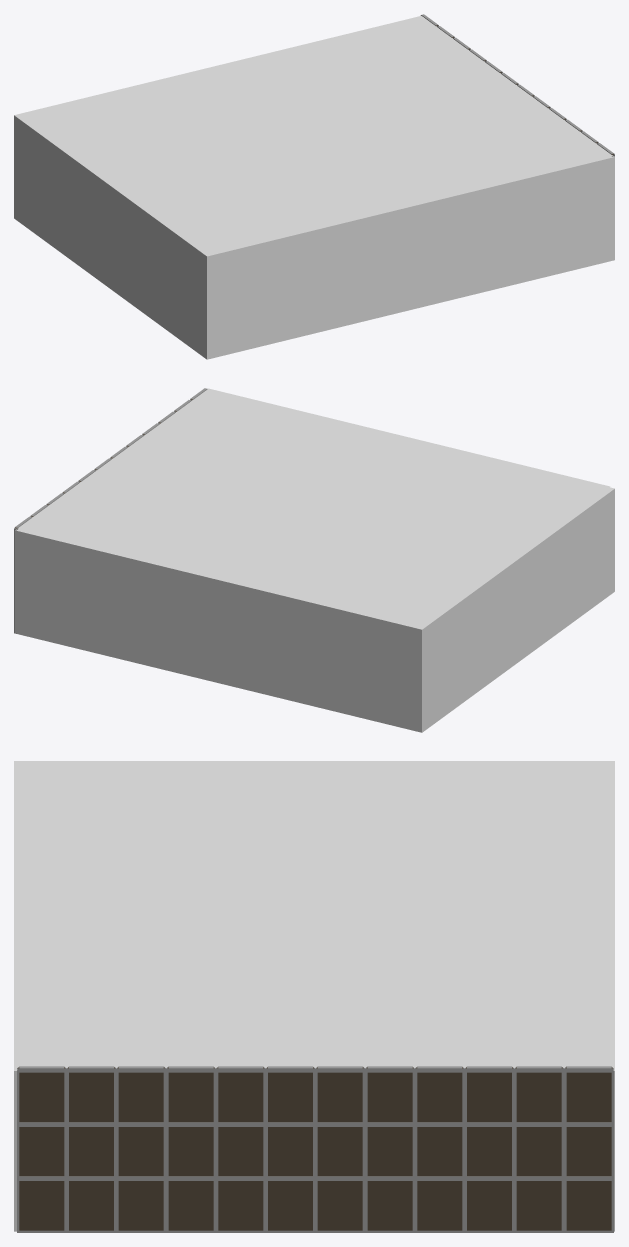
Rendered from cabinet.fbx.
The picture shows the model from 3 angles, top to bottom: view 1: azimuth 30°, elevation 25°; view 2: azimuth 150°, elevation 25°; view 3: azimuth 270°, elevation 25°; orthographic projection. The views are drawn at different scales.
Parts seen in each view (by area): view 1: roof, Wall001, Plane001; view 2: roof, Wall001, Plane001; view 3: roof, Object001, Plane001, Wall001.
Part boxes in pixels (x1,y1,x2,y2): roof: (20, 16, 612, 253); Wall001: (14, 27, 614, 359); Plane001: (420, 14, 614, 156); roof: (18, 388, 610, 625); Wall001: (14, 487, 614, 732); Plane001: (14, 388, 207, 633); roof: (15, 762, 610, 1067); Object001: (18, 1067, 612, 1230); Plane001: (17, 1066, 613, 1232); Wall001: (14, 761, 614, 1231).
Size of the model in its own units: 22.43 by 5.54 by 18.34.
